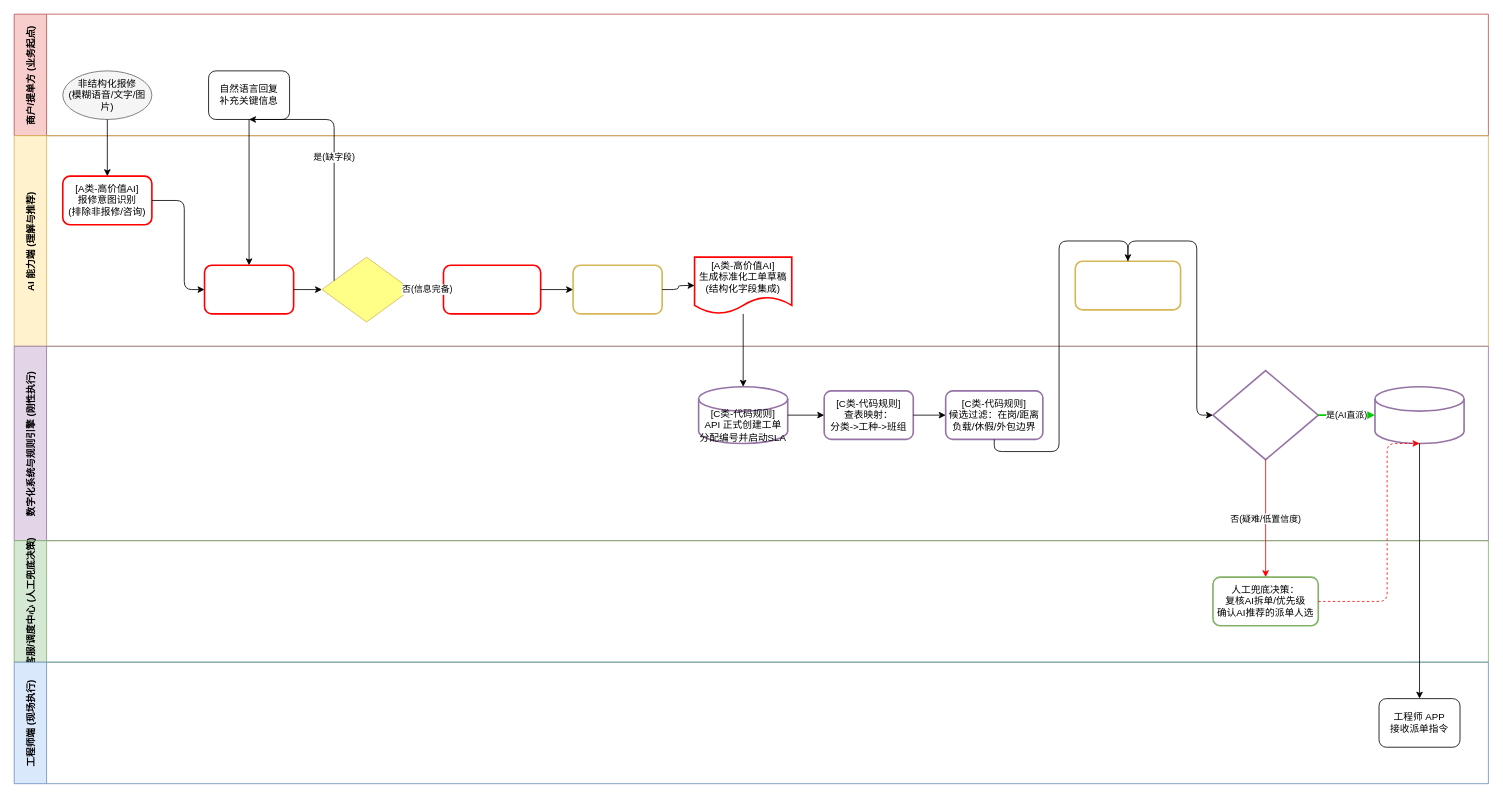
This 1503x798 diagram has some shape labels left out. The centre of each missing label's shape, as x and y in pixels:
"[A类-高价值AI] 信息抽取与补问判断" belongs at pixel 248 289.
"[A类-高价值AI] 工单标准分类映射 & 紧急风险识别" belongs at pixel 491 289.
"[B类-AI辅助] 复合问题识别 (给出拆单建议)" belongs at pixel 617 289.
"[B类-AI辅助] 生成优先级建议 & Top3 工程师排序推荐" belongs at pixel 1127 285.
"[C类-代码规则] 满足全自动派发? (如非疑难且匹配度极高)" belongs at pixel 1265 414.
"[C类-代码规则] 状态流转: 已派单 发送通知/短信推送" belongs at pixel 1419 415.
"关键信息缺失? (触发AI多轮追问)" belongs at pixel 366 289.
